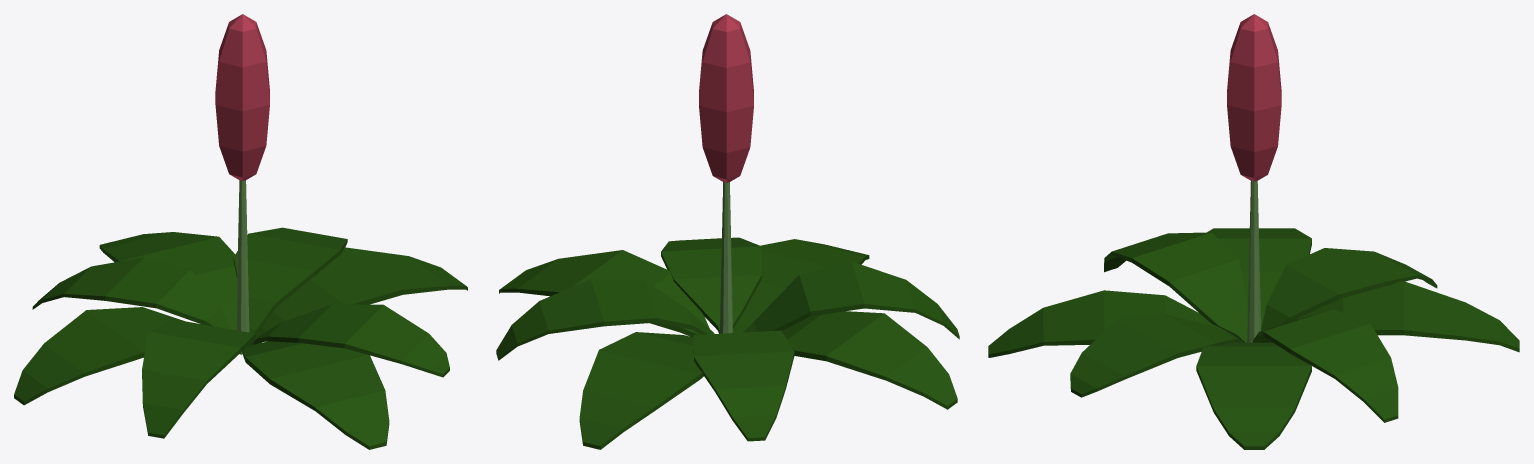
Rendered from Plant.fbx.
3 views of the same model, side by side, from view 1: azimuth 30°, elevation 25°; view 2: azimuth 150°, elevation 25°; view 3: azimuth 270°, elevation 25° (orthographic).
Parts seen in each view (by area): view 1: Plant; view 2: Plant; view 3: Plant.
Part boxes in pixels (<box>): Plant: <box>14,14,467,449</box>; Plant: <box>496,14,959,449</box>; Plant: <box>988,14,1519,449</box>.
Size of the model in its own units: 9.19 by 6.71 by 9.49.
